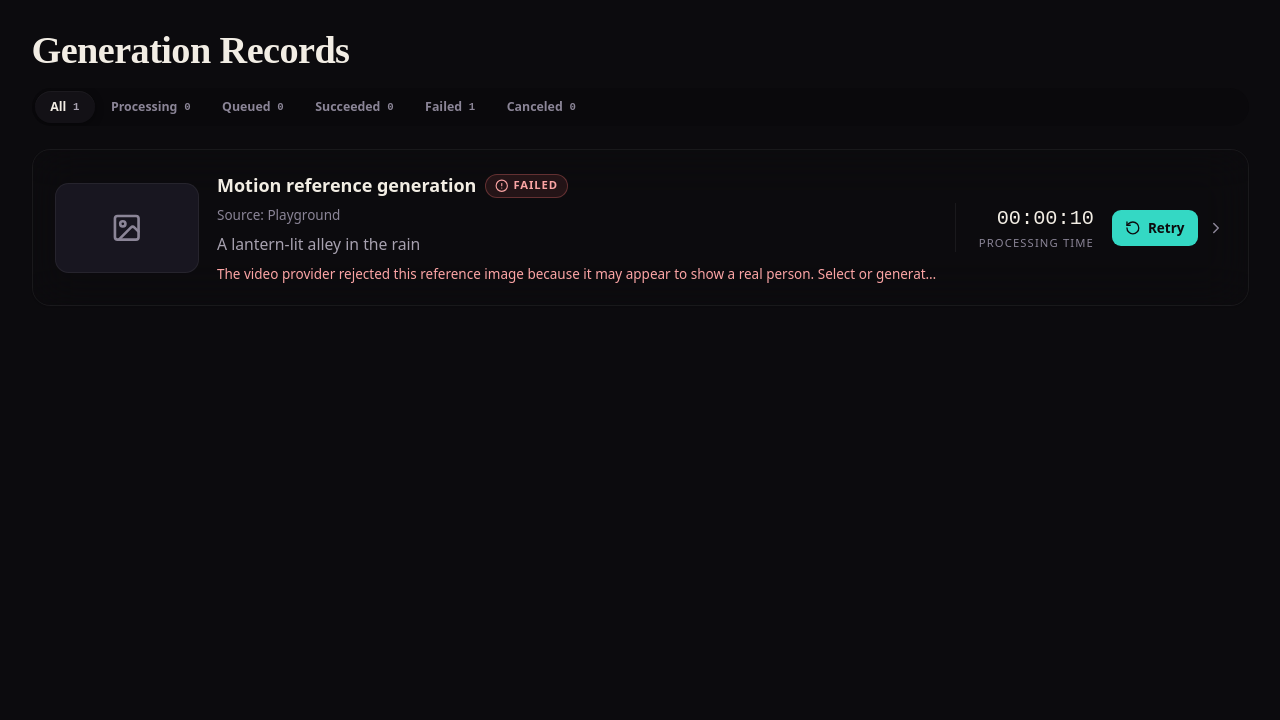
Scenario: Generation Records dashboard › localizes provider privacy failures and hides diagnostics until expanded
The width and height of the screenshot is (1280, 720).
Expected: the text "may appear to show a real person" is shown, x1=217 y1=265 x2=933 y2=301
Click the button with aria-label "Open details for Motion reference generation".
click(640, 228)  # box x1=32 y1=149 x2=1248 y2=306
(page scrolled)
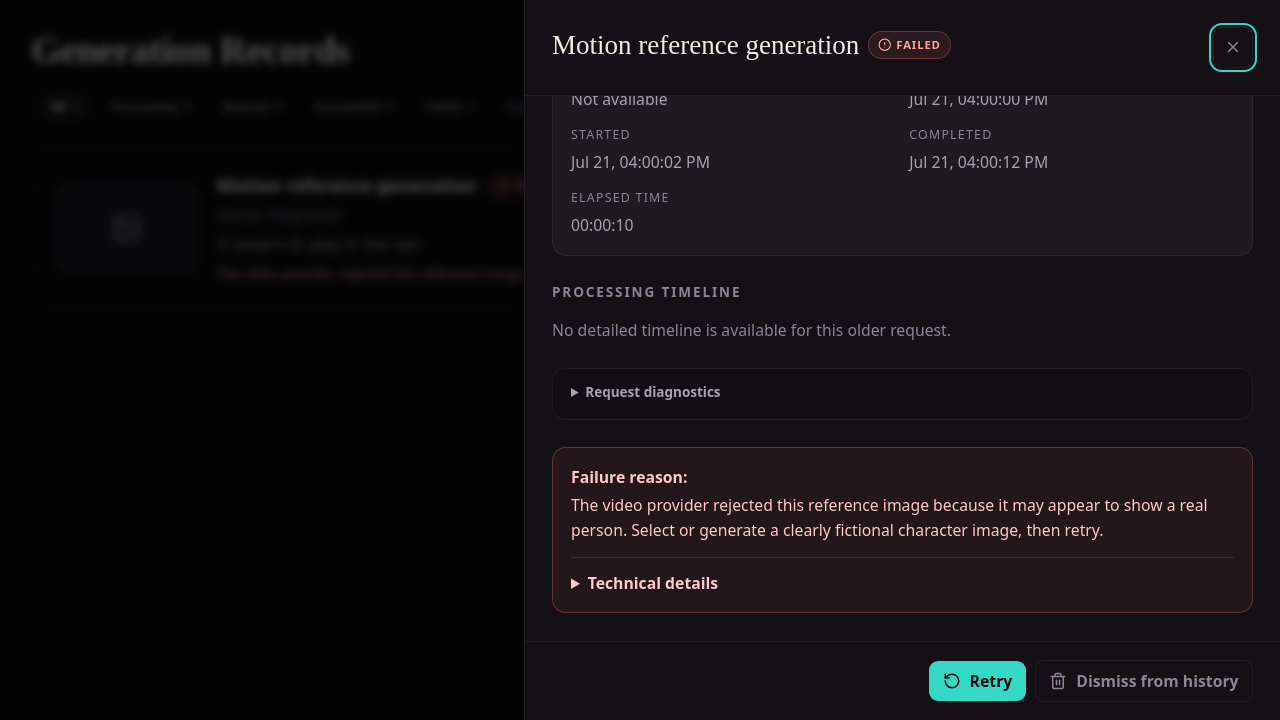
Click the heading "Technical details".
click(653, 583)  # box x1=588 y1=572 x2=718 y2=594
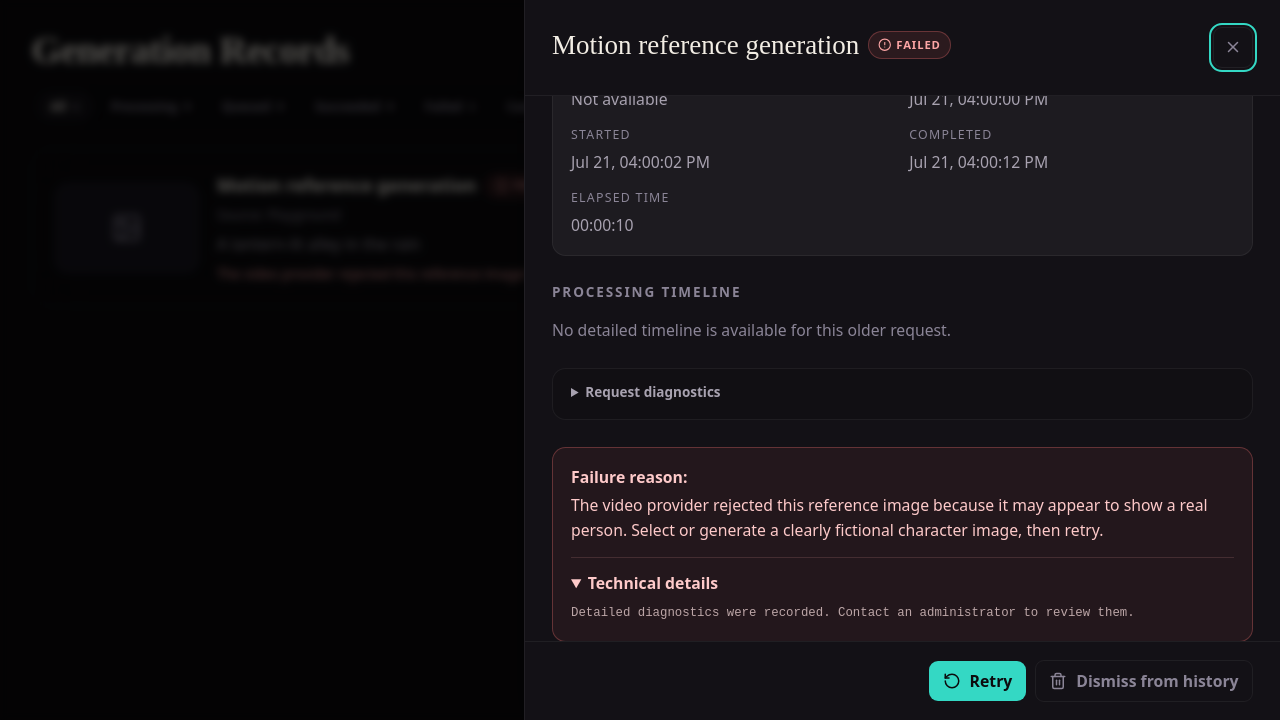
Now the text "Detailed diagnostics were recorded. Contact an administrator to review them." is shown, box x1=571 y1=603 x2=1234 y2=623
